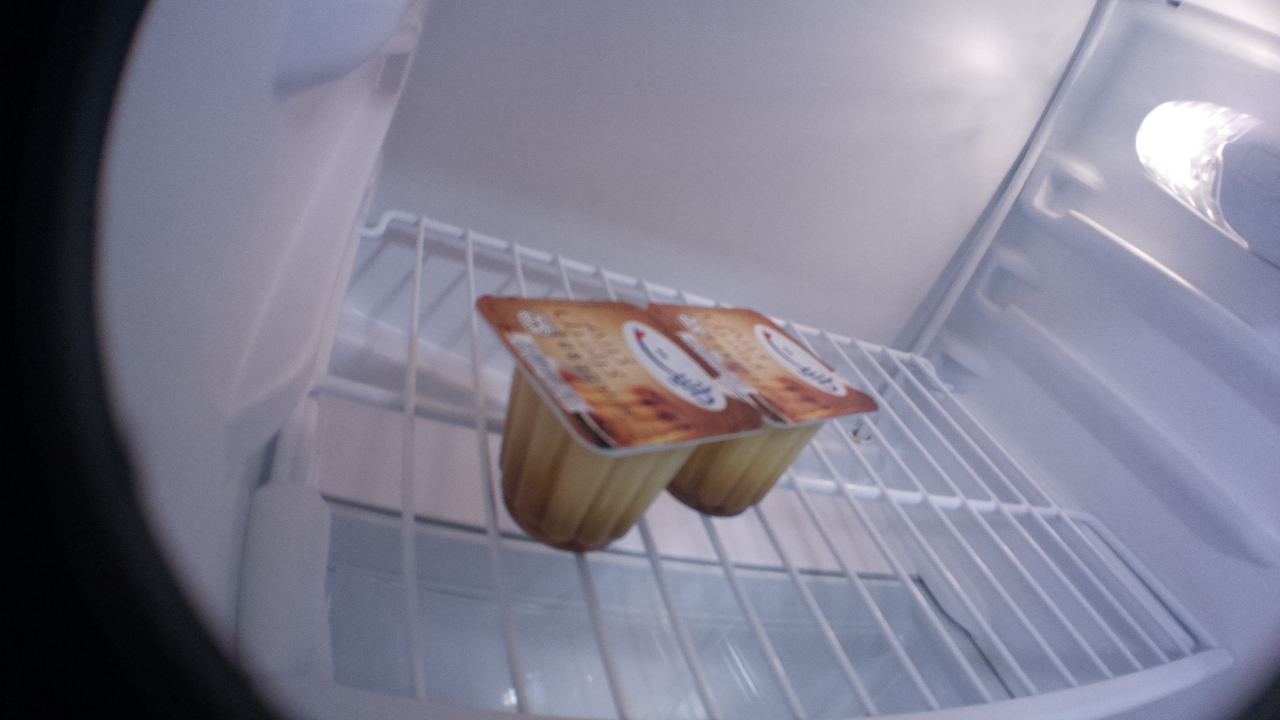caramel: (472, 294, 769, 553), (645, 301, 880, 517)
